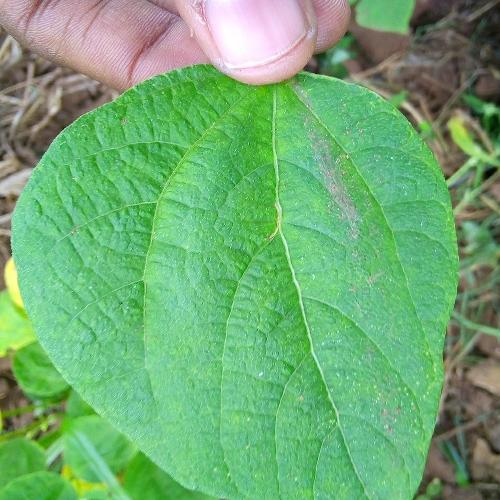embun tepung: (340, 356, 412, 438)
sehat: (80, 148, 237, 370)
